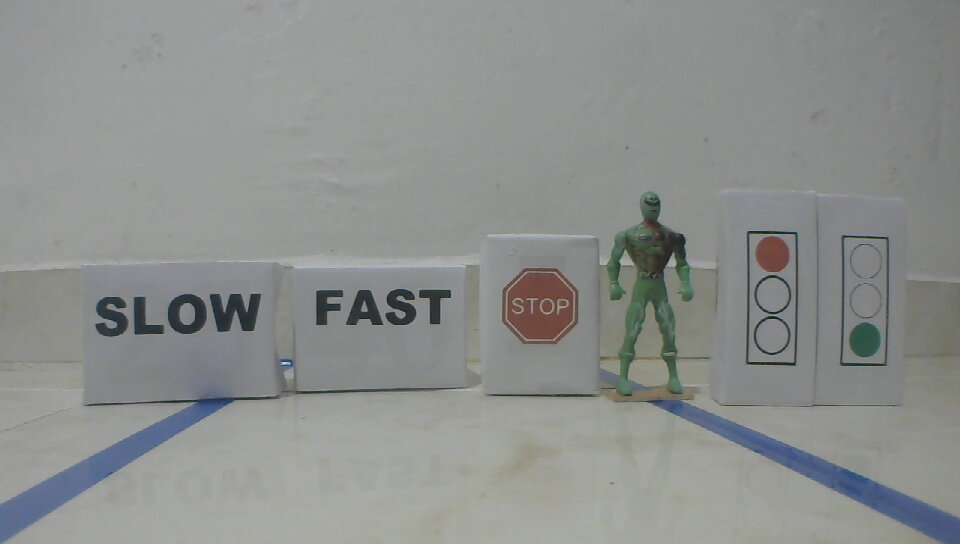Fast: (315, 287, 455, 329)
Green Traffic Light: (839, 234, 890, 370)
Person: (605, 188, 700, 401)
Red Traffic Light: (743, 227, 803, 369)
Slow: (93, 289, 265, 336)
Stop Sign: (500, 266, 580, 345)
